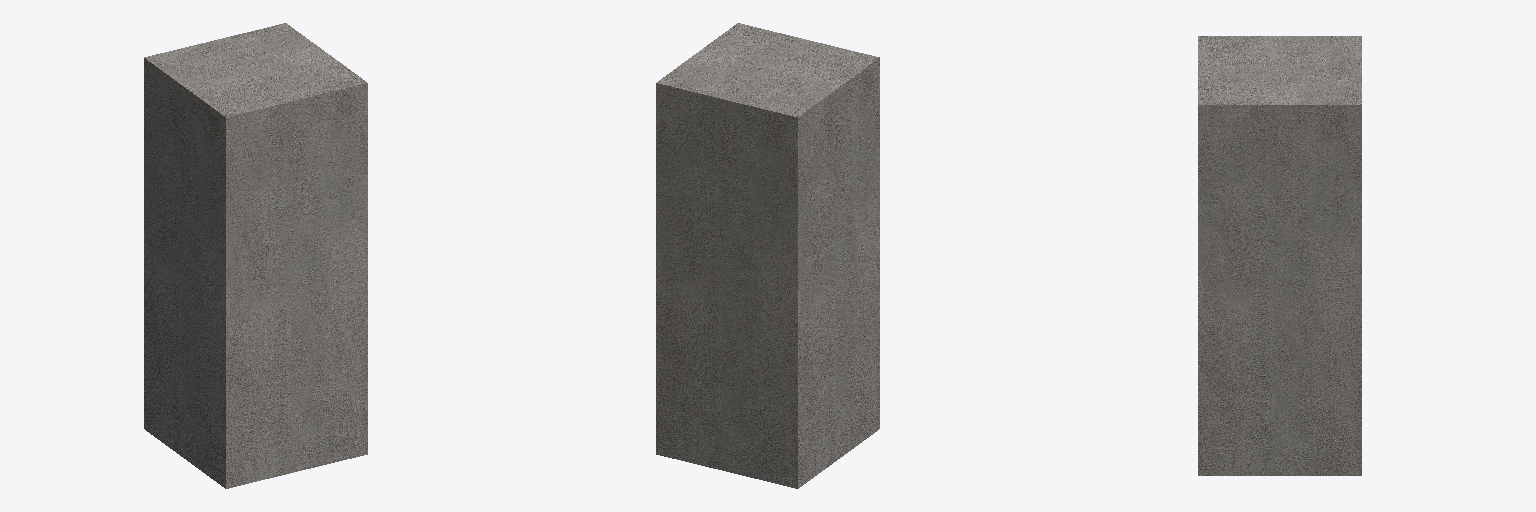
3 views of the same model, side by side, from view 1: azimuth 30°, elevation 25°; view 2: azimuth 150°, elevation 25°; view 3: azimuth 270°, elevation 25° (orthographic).
Parts seen in each view (by area): view 1: 1x1x2,5; view 2: 1x1x2,5; view 3: 1x1x2,5.
Boxes of the visible parts, <box> form: 1x1x2,5: <box>144,23,367,488</box>; 1x1x2,5: <box>656,23,879,488</box>; 1x1x2,5: <box>1198,36,1361,475</box>.
Size of the model in its own units: 1 by 2.5 by 1.
Materials: 1 (1 with a texture image).